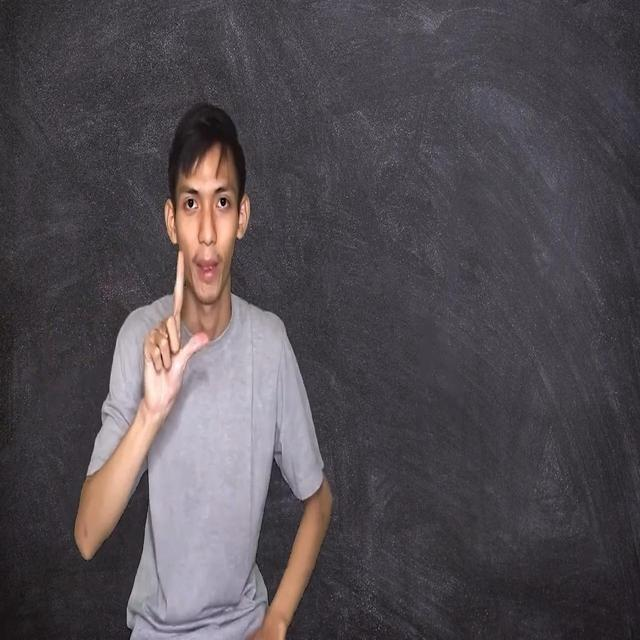L: (116, 248, 216, 446)
